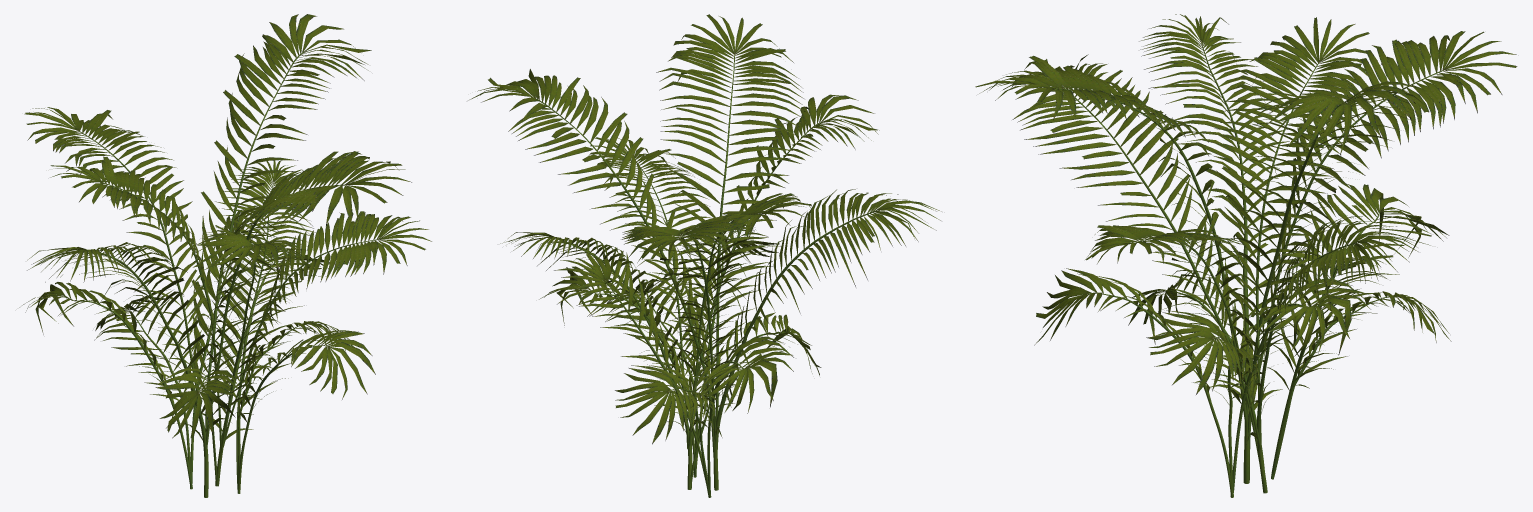
Rendered from plant1-transformed.glb.
3 renders of one model, left to right at view 1: azimuth 30°, elevation 25°; view 2: azimuth 150°, elevation 25°; view 3: azimuth 270°, elevation 25°, orthographic. The views are drawn at different scales.
Visible parts, largest first — view 1: Plant_Areca_C_spring-summer-autumn; view 2: Plant_Areca_C_spring-summer-autumn; view 3: Plant_Areca_C_spring-summer-autumn.
Part boxes in pixels (x1,y1,x2,y2): Plant_Areca_C_spring-summer-autumn: (19, 14, 431, 497); Plant_Areca_C_spring-summer-autumn: (468, 14, 941, 497); Plant_Areca_C_spring-summer-autumn: (975, 14, 1517, 497).
Size of the model in its own units: 2.2 by 2.11 by 2.16.
2 materials, 2 textured.
